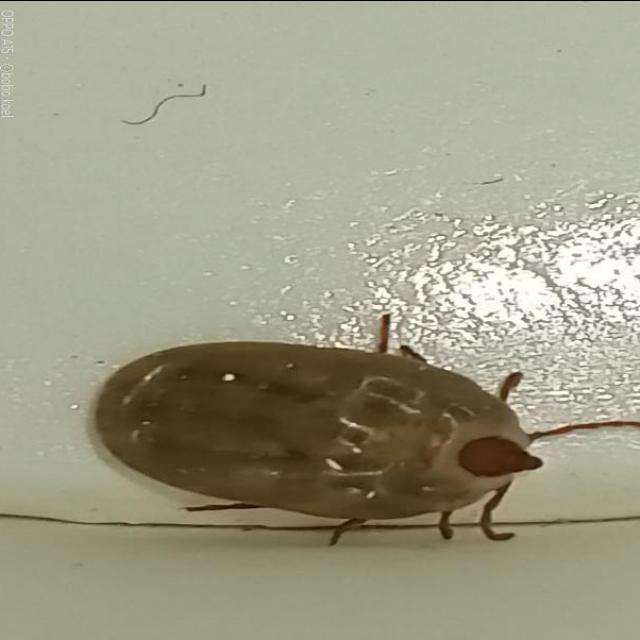Rhipicephalus Sanguineus-F-Fed: (92, 313, 640, 546)
